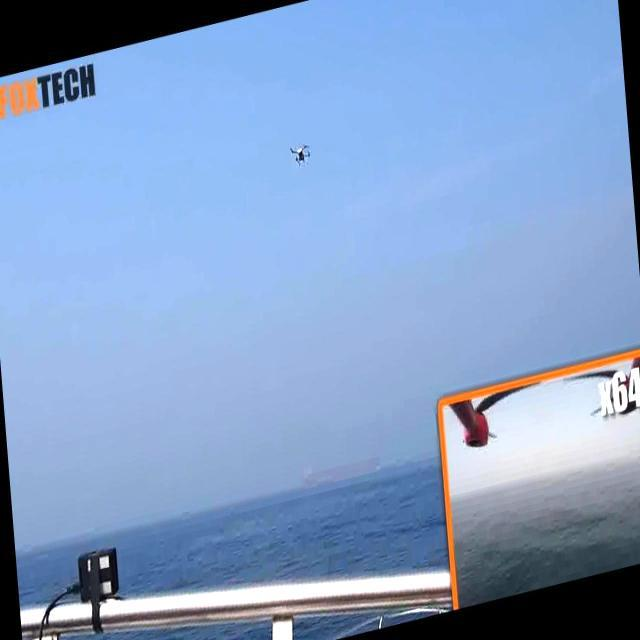drone: (286, 136, 314, 173)
